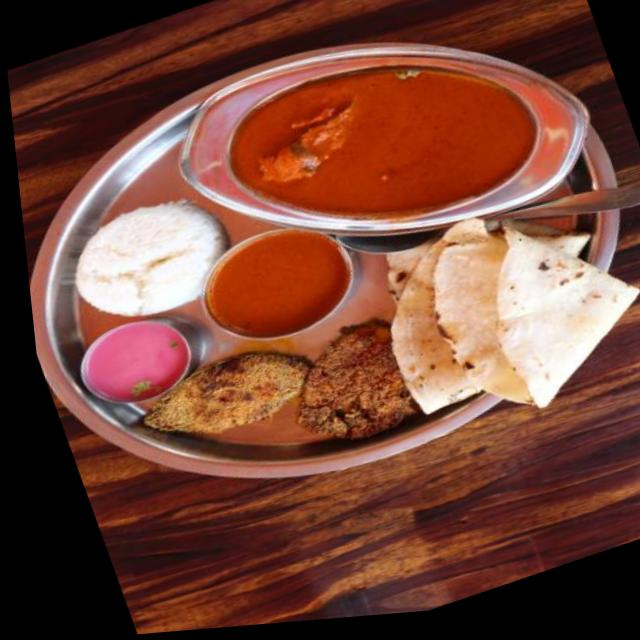CHAPATHI: (366, 191, 640, 429)
CHICKEN FRY: (275, 315, 442, 475)
FISH CURRY: (199, 0, 584, 281)
FISH FRY: (134, 344, 319, 456)
RICE: (56, 182, 240, 338)
SAMBAR: (195, 223, 366, 360)
SWEET: (60, 307, 203, 419)
